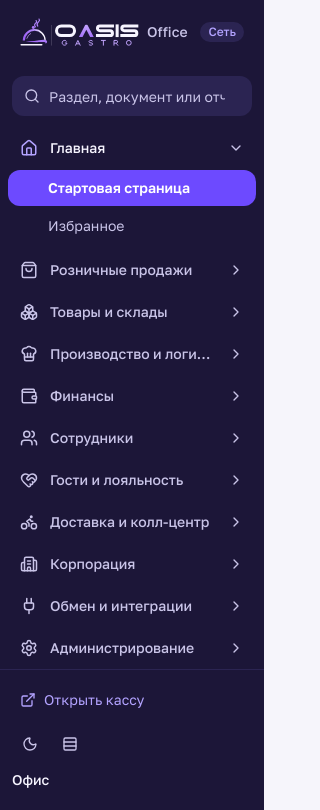
Test: office sidebar groups open and close (fix-office-sidebar-collapse) › [fix-office-sidebar-collapse] close a group that does not hold the current page
Click the button "Финансы" at (132, 396), box [8,376,256,416]
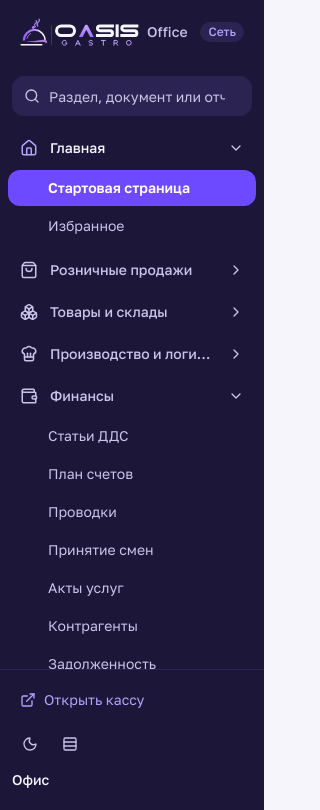
Click the button "Финансы" at (132, 396), box [8,376,256,416]
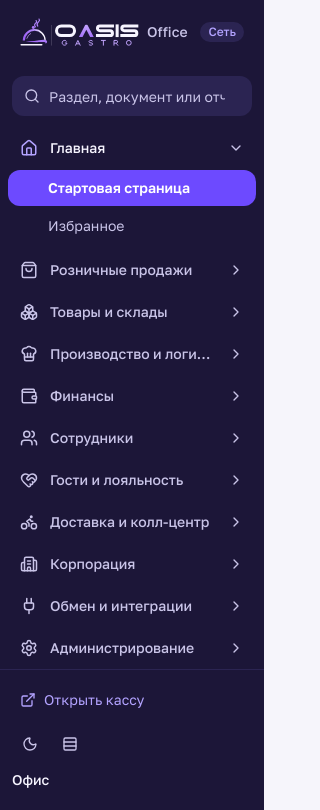
Check: the button "Финансы" is collapsed, box [8,376,256,416]
Check: the link "Проводки" is gone
